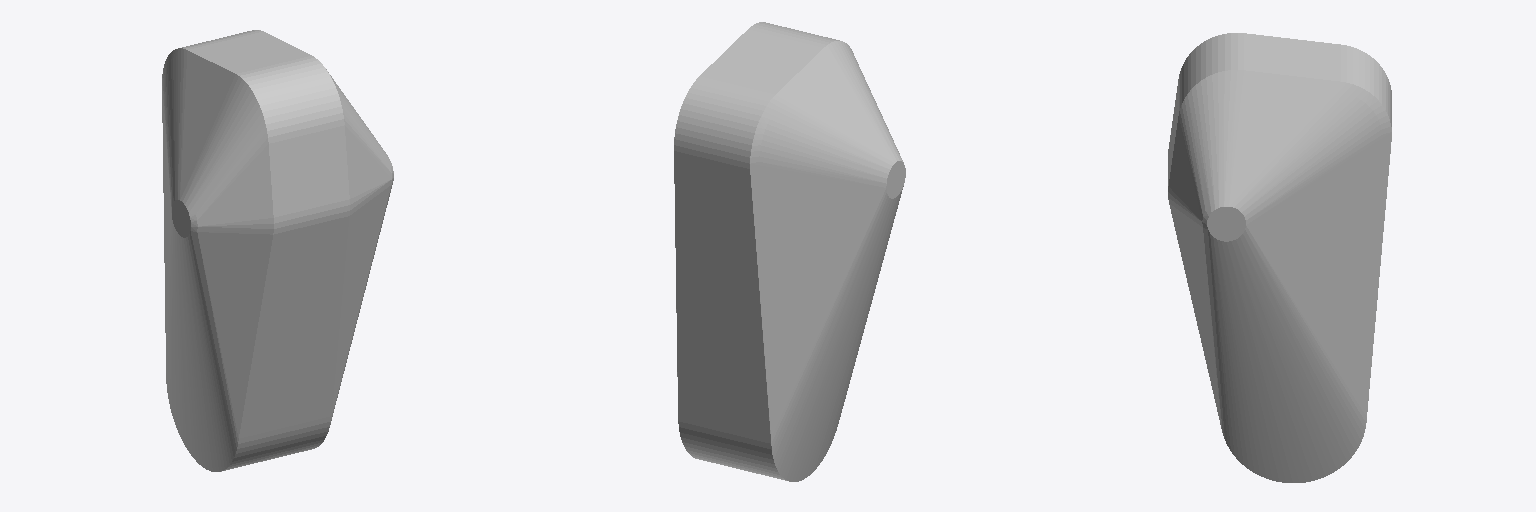
The model's file is robotiq_arg2f_85_outer_knuckle.obj.
3 views of the same model, side by side, from view 1: azimuth 30°, elevation 25°; view 2: azimuth 150°, elevation 25°; view 3: azimuth 270°, elevation 25° (orthographic).
Visible parts, largest first — view 1: Robotiq_Arg2F_85_Outer_Knuckle; view 2: Robotiq_Arg2F_85_Outer_Knuckle; view 3: Robotiq_Arg2F_85_Outer_Knuckle.
Part boxes in pixels (x1,y1,x2,y2): Robotiq_Arg2F_85_Outer_Knuckle: (162, 30, 393, 471); Robotiq_Arg2F_85_Outer_Knuckle: (674, 22, 905, 481); Robotiq_Arg2F_85_Outer_Knuckle: (1168, 33, 1391, 482).
Bounding box in the file's own units: 24 × 46.27 × 22.94.